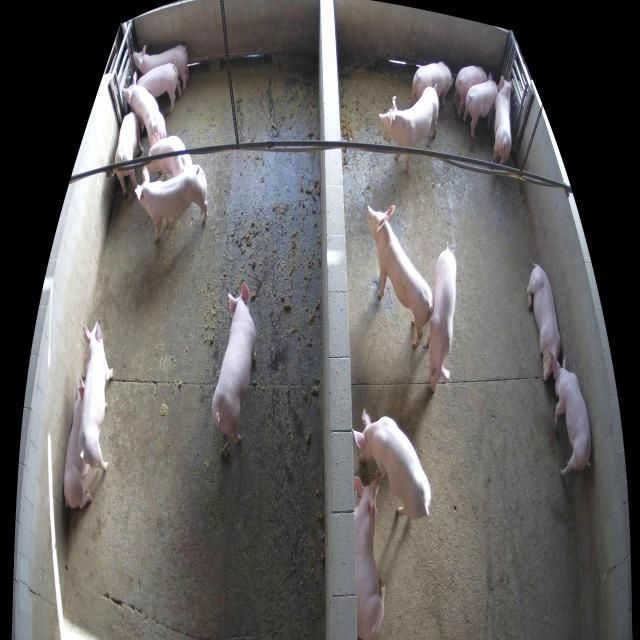pig: (366, 205, 432, 347), (353, 408, 430, 519), (211, 281, 257, 445), (135, 165, 208, 243), (378, 84, 438, 173), (80, 318, 114, 471), (354, 477, 386, 639), (426, 242, 456, 392), (553, 355, 590, 475), (527, 265, 561, 376), (64, 378, 90, 509), (122, 72, 166, 147), (463, 72, 501, 141), (114, 112, 144, 196), (132, 45, 188, 90), (135, 62, 181, 113), (143, 136, 193, 181), (410, 63, 454, 106), (492, 75, 512, 165), (453, 66, 488, 117)
